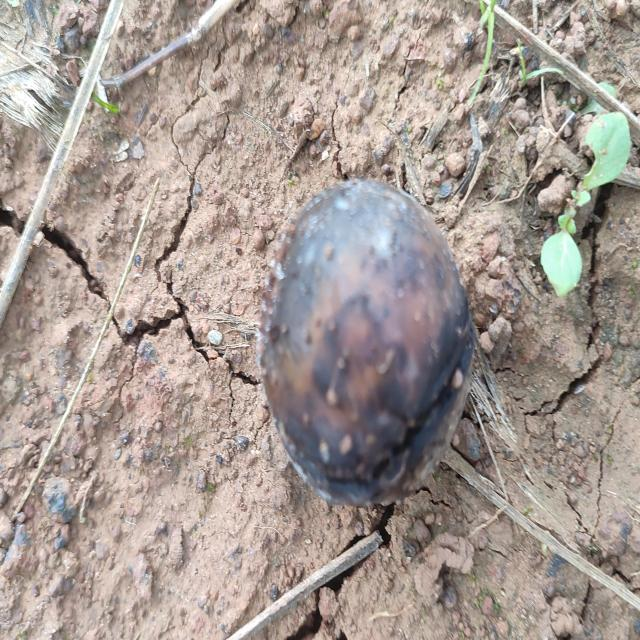damaged: (257, 179, 474, 505)
